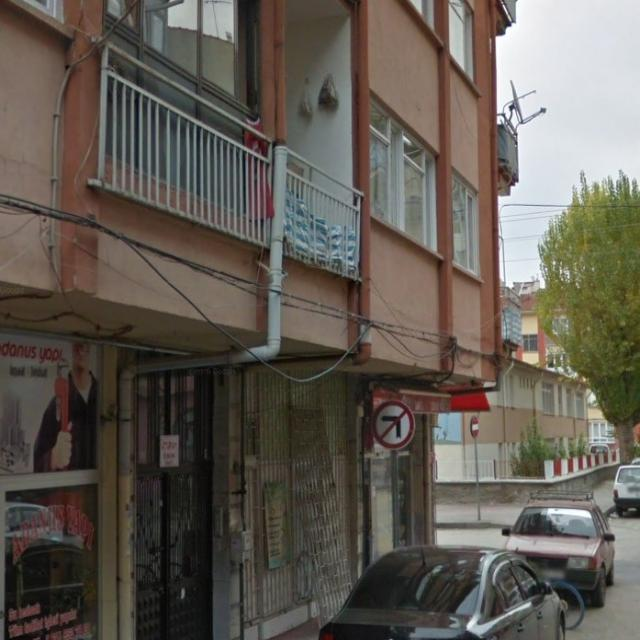girisyok: (471, 415, 478, 437)
soladonulmez: (372, 400, 414, 449)
